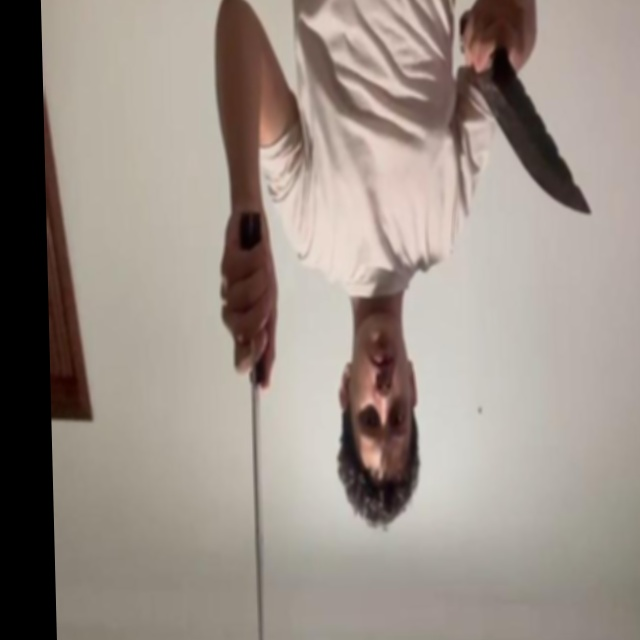Sharp-Object: (478, 71, 590, 216), (249, 354, 265, 640)
